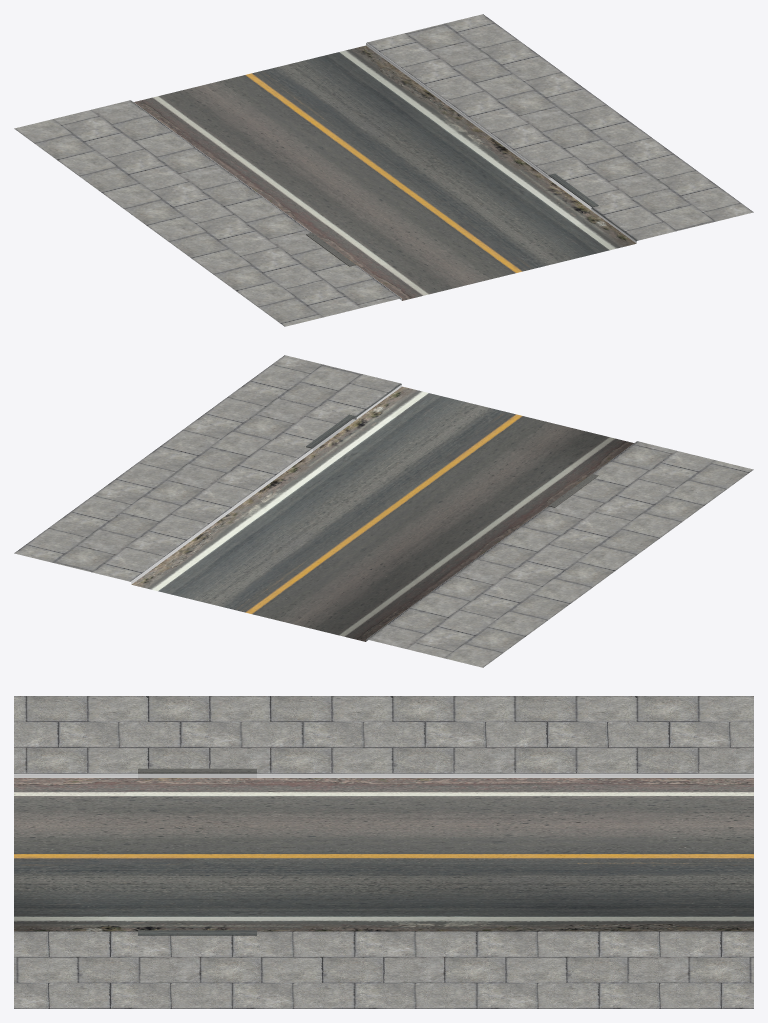
File: StraightRoadStormDrain.FBX
3 views of the same model, one above another, from view 1: azimuth 30°, elevation 25°; view 2: azimuth 150°, elevation 25°; view 3: azimuth 270°, elevation 25° (orthographic). The views are drawn at different scales.
Visible parts, largest first — view 1: Plane001; view 2: Plane001; view 3: Plane001.
Boxes of the visible parts, x1,y1,x2,y2 form: Plane001: (14,14,753,326); Plane001: (14,355,753,667); Plane001: (14,696,753,1008).
Size of the model in its own units: 1230 by 10.8 by 1230.
